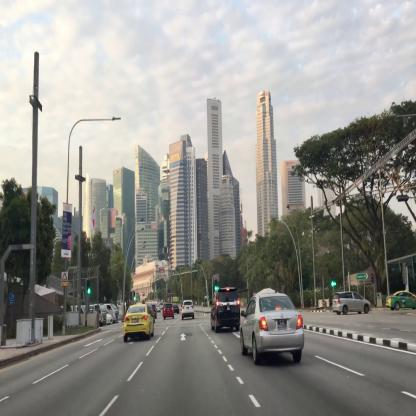green_traffic_light: (86, 280, 90, 294), (214, 279, 217, 290)
